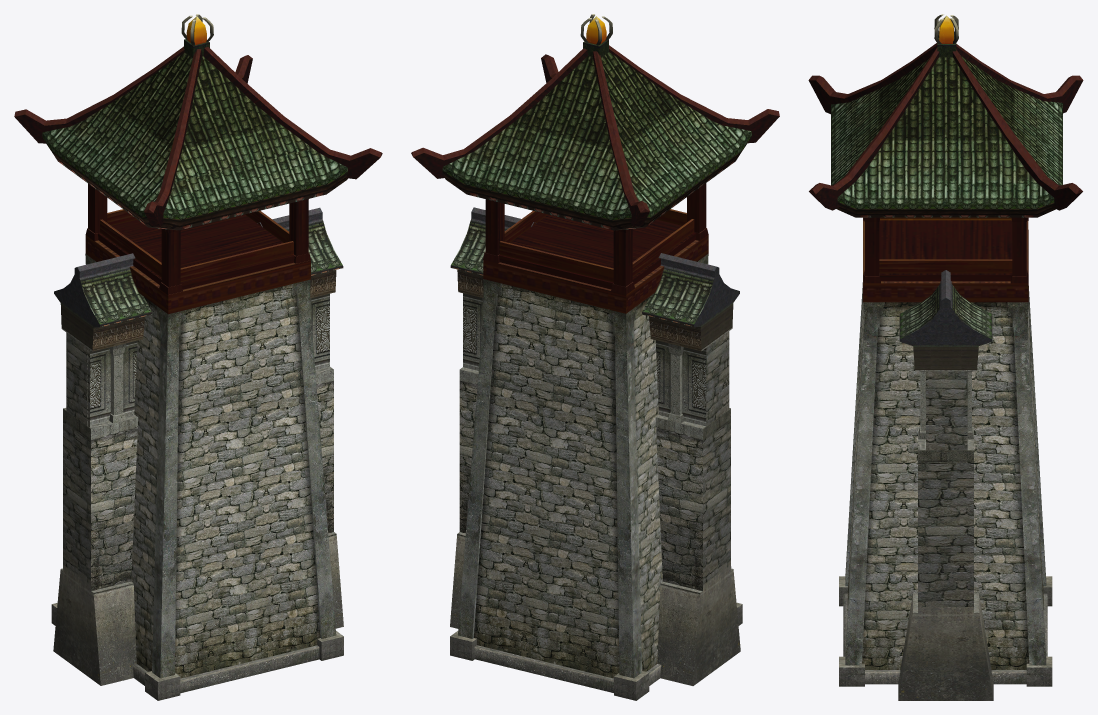
The model's file is c1-middledam-07.fbx.
3 renders of one model, left to right at view 1: azimuth 30°, elevation 25°; view 2: azimuth 150°, elevation 25°; view 3: azimuth 270°, elevation 25°, orthographic.
Parts seen in each view (by area): view 1: b1-middledam-07-02; view 2: b1-middledam-07-02; view 3: b1-middledam-07-02.
Part boxes in pixels (bbox=[...]): b1-middledam-07-02: bbox=[14, 14, 382, 700]; b1-middledam-07-02: bbox=[411, 14, 779, 700]; b1-middledam-07-02: bbox=[808, 14, 1083, 700].
Bounding box in the file's own units: 5.02 × 12.29 × 4.9.
